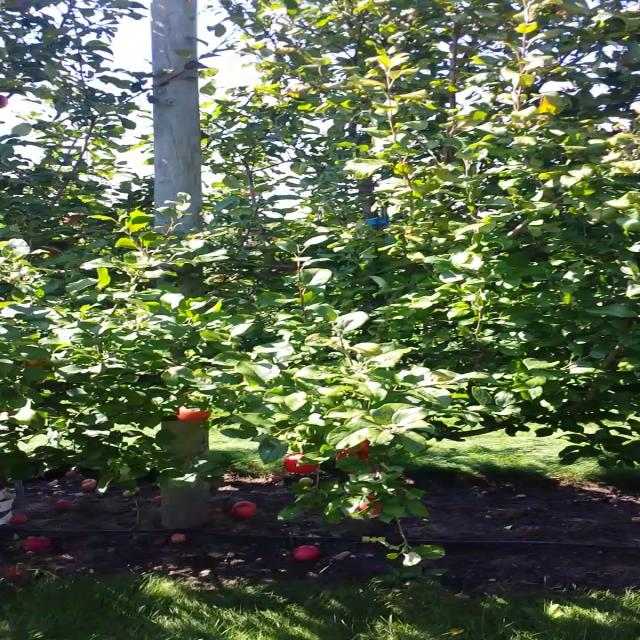apple: (334, 449, 377, 475), (282, 454, 319, 474), (176, 404, 212, 424), (358, 495, 382, 515), (359, 440, 371, 460), (26, 360, 48, 368)
